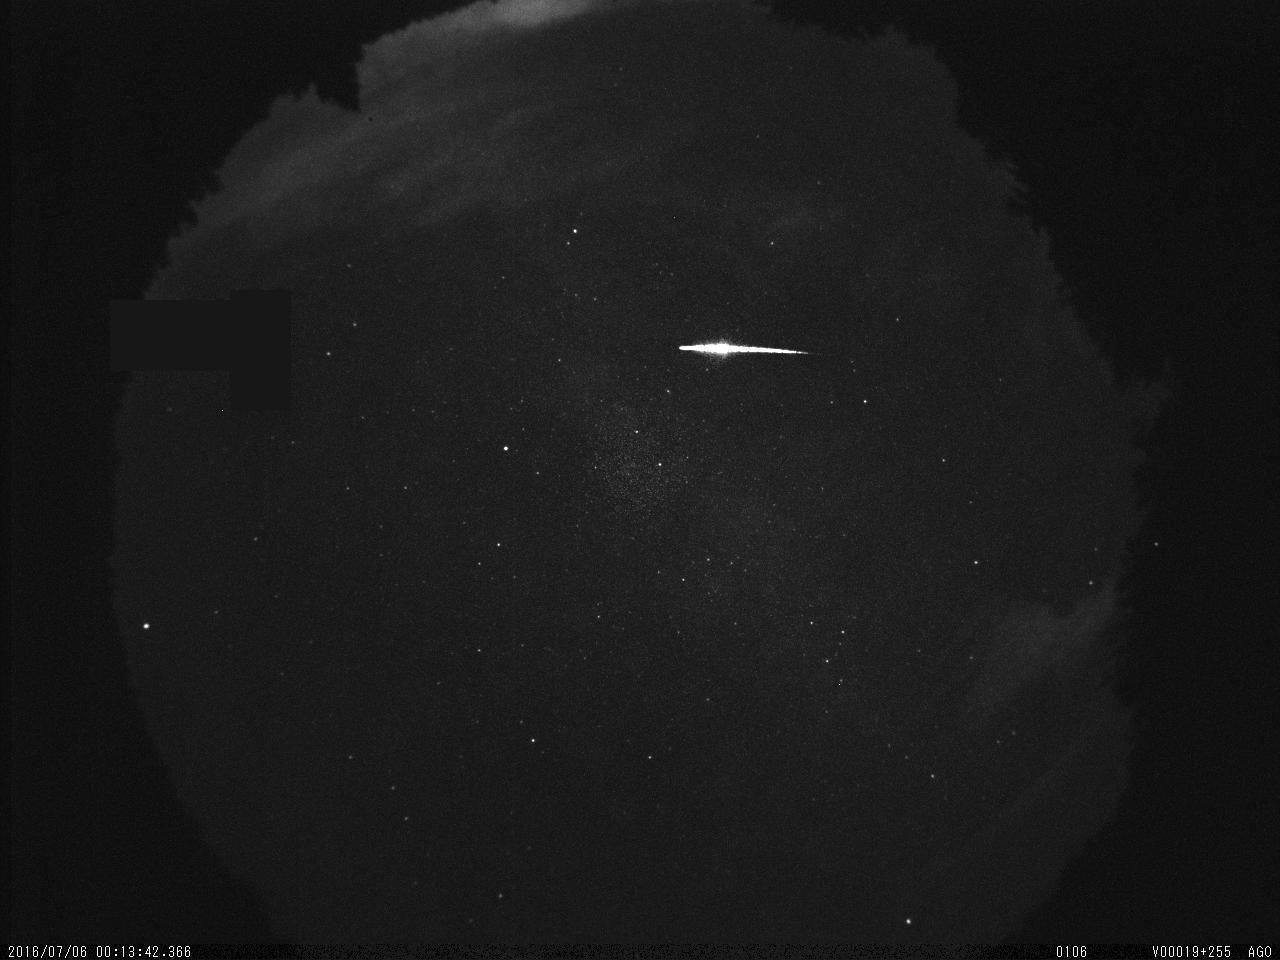Meteor: (664, 340, 816, 362)
